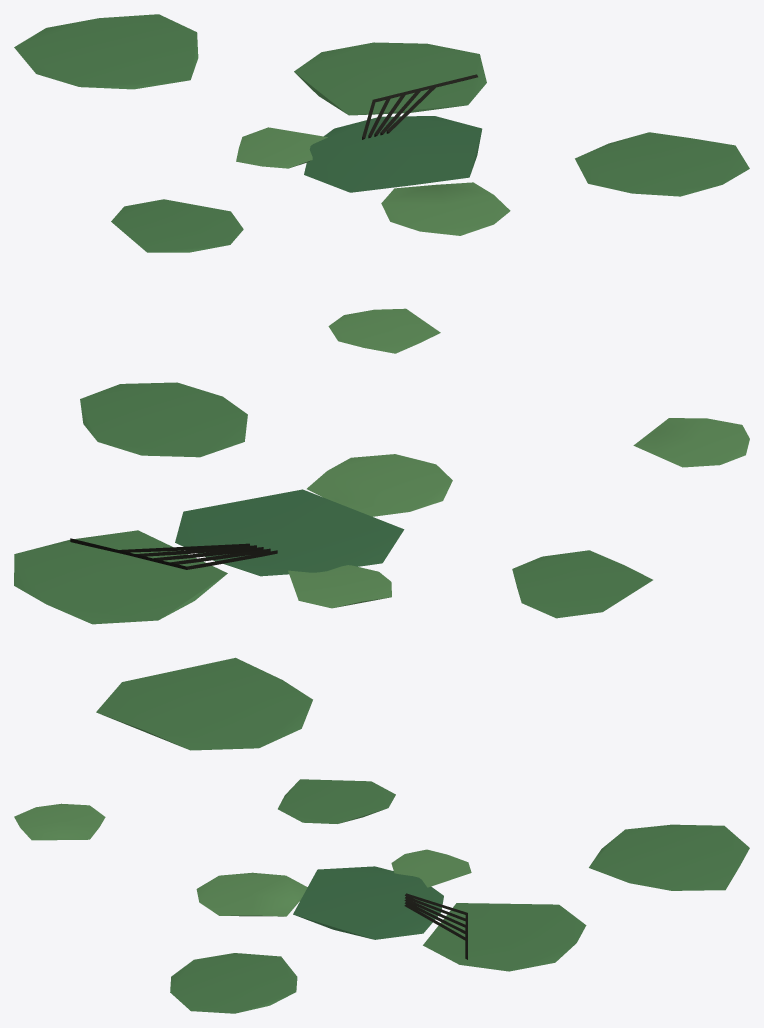
File: pond_scum.glb
3 renders of one model, top to bottom at view 1: azimuth 30°, elevation 25°; view 2: azimuth 150°, elevation 25°; view 3: azimuth 270°, elevation 25°, orthographic. The views are drawn at different scales.
Visible parts, largest first — view 1: pond_scum; view 2: pond_scum; view 3: pond_scum.
Boxes of the visible parts, x1,y1,x2,y2 form: pond_scum: [14, 14, 749, 353]; pond_scum: [14, 382, 749, 750]; pond_scum: [14, 779, 749, 1013].
Size of the model in its own units: 1.81 by 0.0261 by 2.39.
